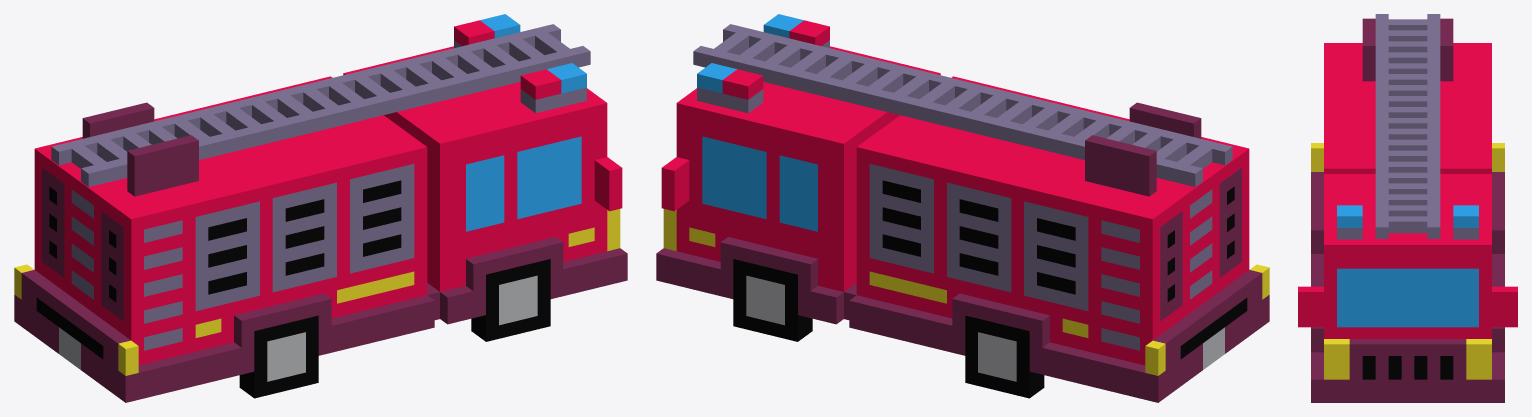
The model's file is fire_truck.obj.
The picture shows the model from 3 angles, left to right: view 1: azimuth 30°, elevation 25°; view 2: azimuth 150°, elevation 25°; view 3: azimuth 270°, elevation 25°; orthographic projection. The views are drawn at different scales.
Bounding box in the file's own units: 3.9 × 1.8 × 1.7.
1 material, 1 textured.
